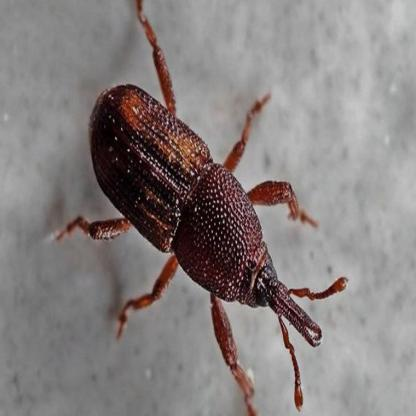rice-bug: (89, 80, 321, 353)
